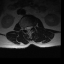CCS_normal: (27, 25, 29, 32)
LFS_normal: (31, 24, 33, 29)
LLS_normal: (29, 24, 31, 31)
RFS_normal: (23, 25, 25, 31)
RLS_normal: (25, 25, 27, 31)
